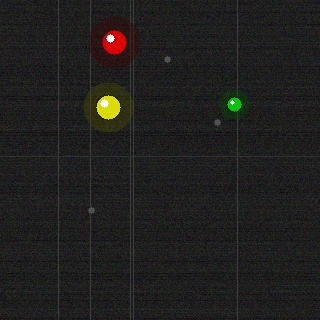green_normal: (225, 95, 243, 113)
red_fault: (100, 28, 128, 56)
yellow_warning: (94, 93, 122, 121)
